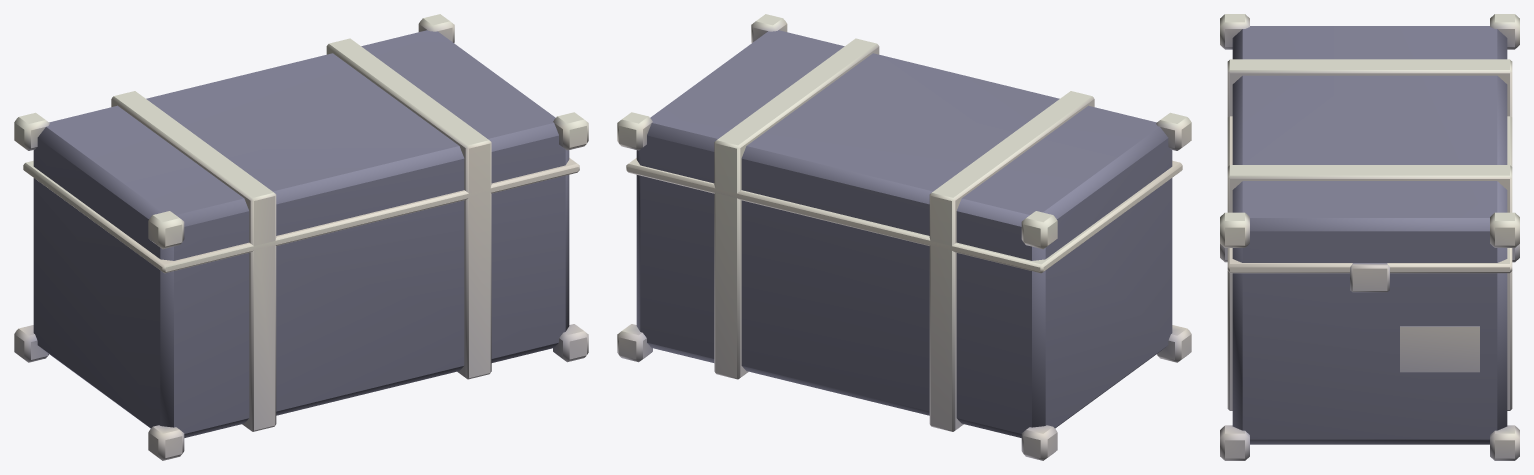
File: steamer-trunk.glb
3 views of the same model, side by side, from view 1: azimuth 30°, elevation 25°; view 2: azimuth 150°, elevation 25°; view 3: azimuth 270°, elevation 25° (orthographic).
Visible parts, largest first — view 1: body; view 2: body; view 3: body.
Part boxes in pixels (x1,y1,x2,y2): body: (14, 14, 588, 460); body: (617, 14, 1191, 460); body: (1220, 14, 1519, 460).
Bounding box in the file's own units: 1 × 0.53 × 0.6.
